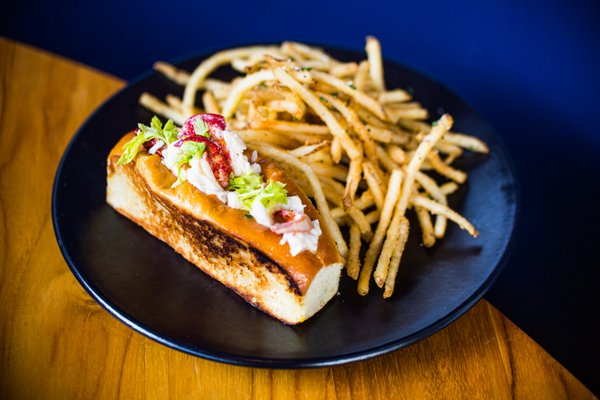soup: (105, 113, 344, 325)
